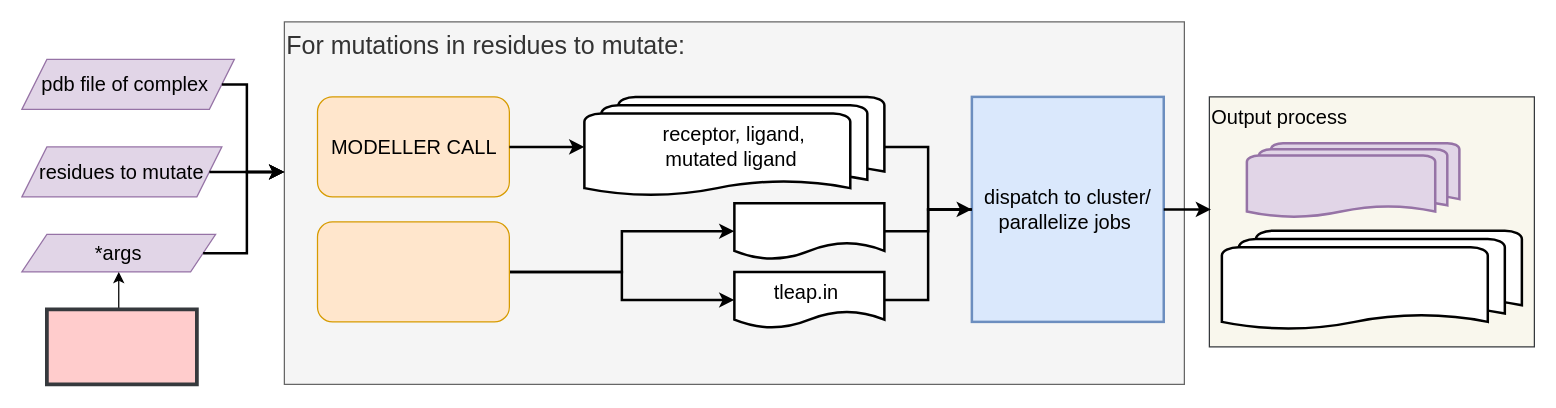
Some shapes in this 1556 by 408 pixel diagram are drawn without their labels. Each missing label, with the centre of its shape:
"*.mdcrd" belongs at [1352,180].
"MM/PB(GB)SA simulations" belongs at [1371,280].
"mmpbsa.in" belongs at [808,230].
"Optimal radii" belongs at [121,346].
"Simulation input generation" belongs at [412,271].
